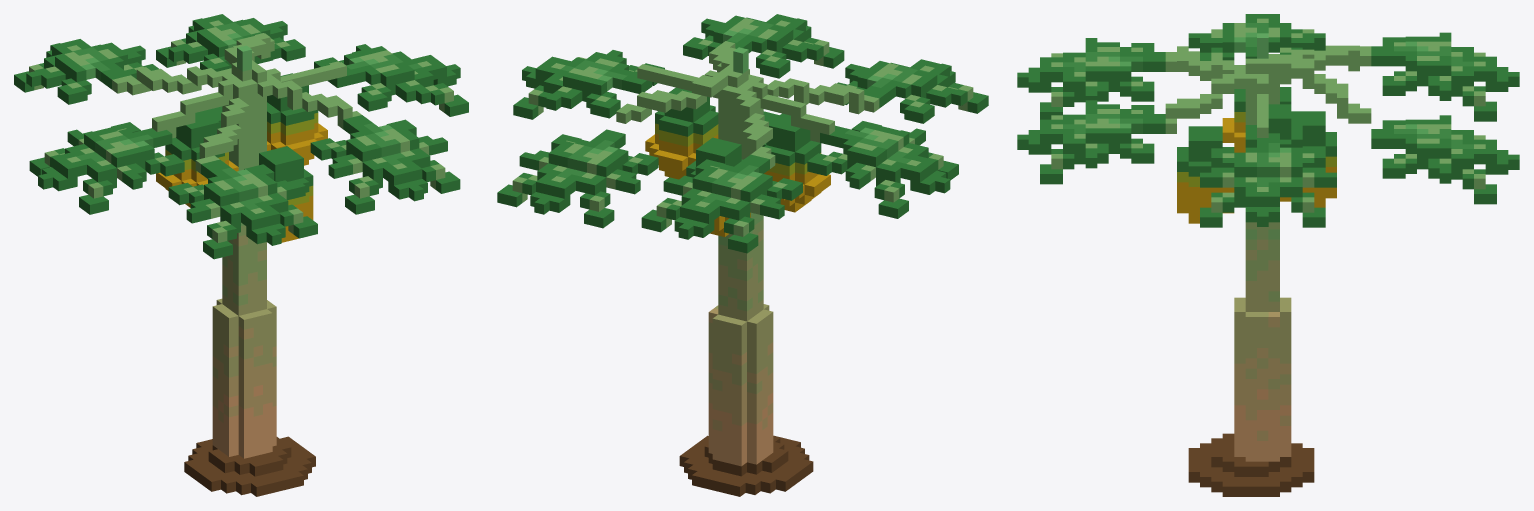
The model's file is 2_1 mamao.obj.
3 renders of one model, left to right at view 1: azimuth 30°, elevation 25°; view 2: azimuth 150°, elevation 25°; view 3: azimuth 270°, elevation 25°, orthographic. The views are drawn at different scales.
Bounding box in the file's own units: 4.4 × 4.2 × 4.4.
1 material, 1 textured.
